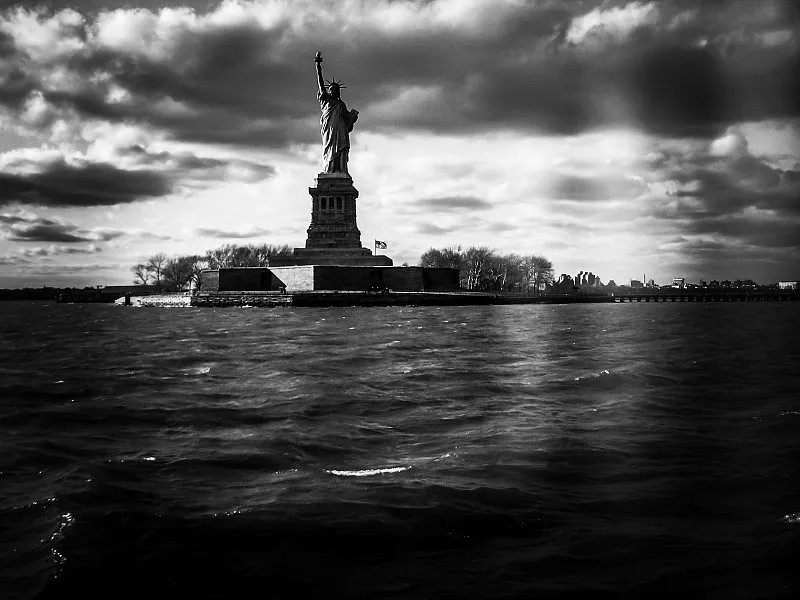SL: (304, 49, 362, 248)
